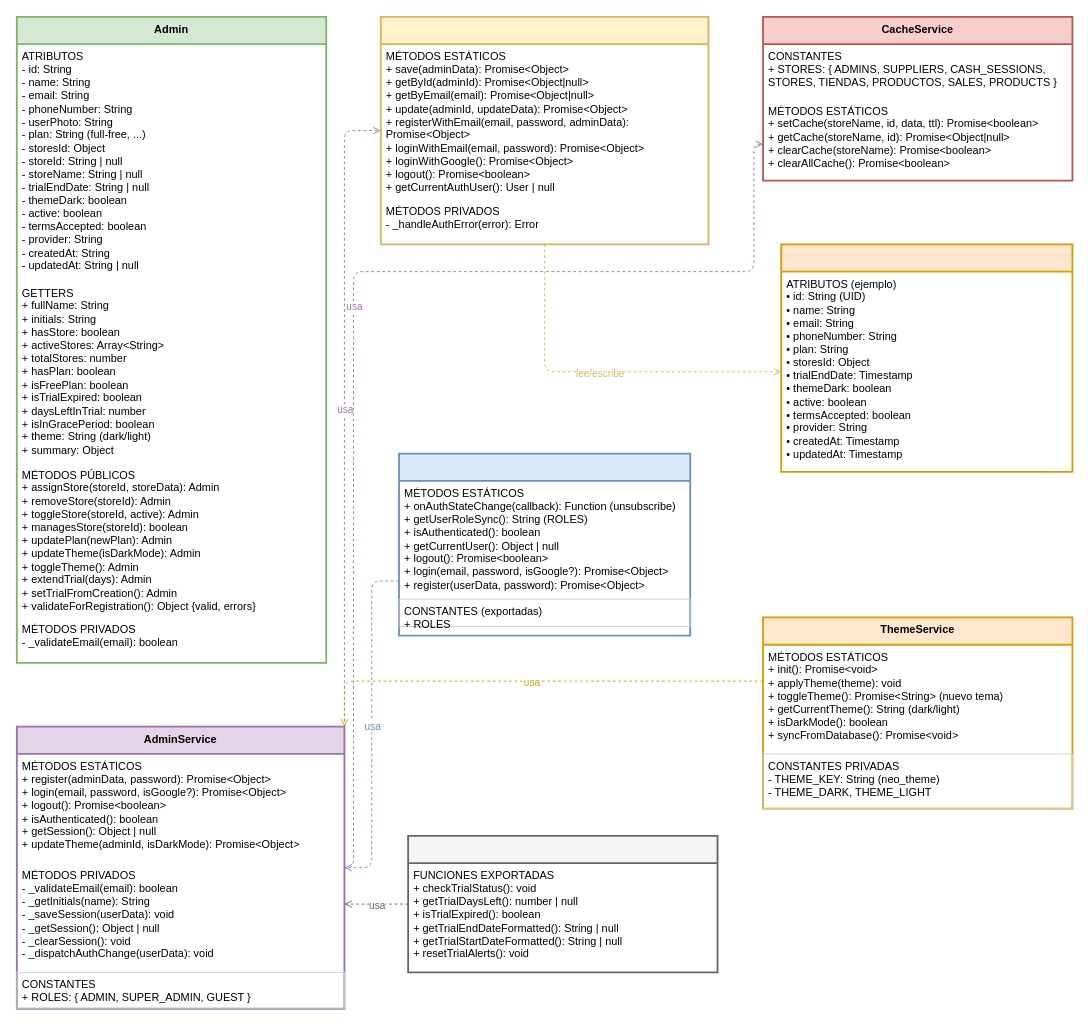
The diagram is 1088 pixels wide and 1026 high, and some of its shapes have lost their labels. The box of each missing label's shape, as (x1, y1, x2, y2) in pixels:
AdminRepository: (379, 15, 709, 245)
AuthService: (398, 452, 691, 636)
TrialCheckService: (407, 834, 718, 973)
«collection» admins: (780, 243, 1073, 472)
